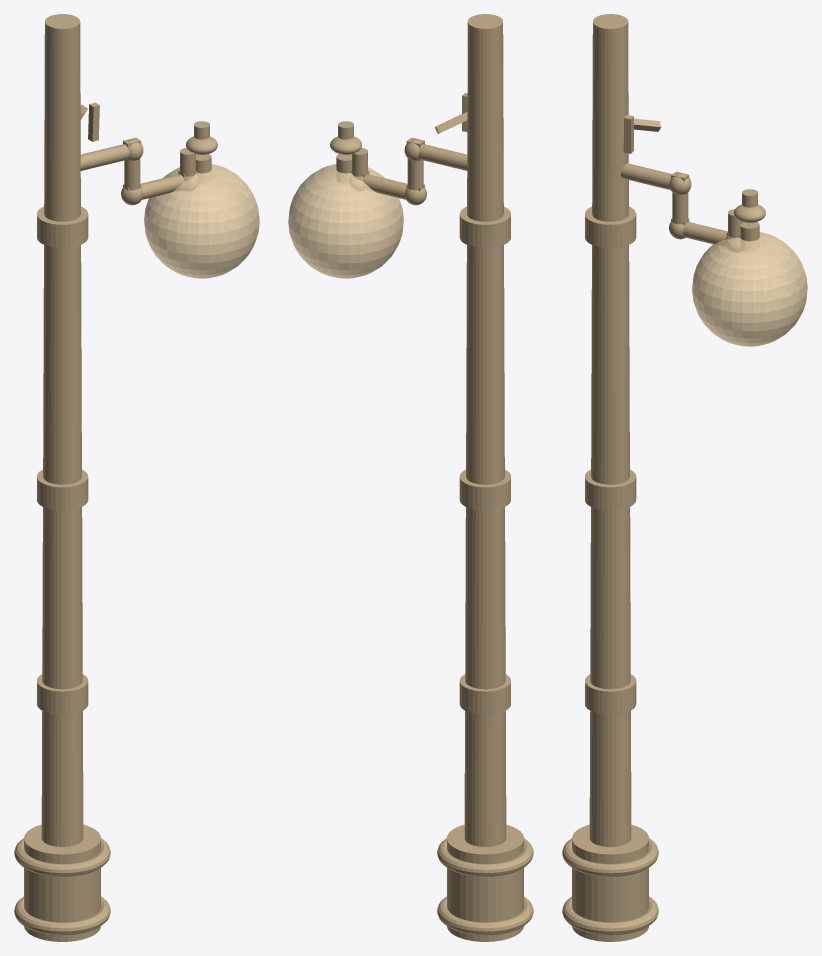
3 views of the same model, side by side, from view 1: azimuth 30°, elevation 25°; view 2: azimuth 150°, elevation 25°; view 3: azimuth 330°, elevation 25° (orthographic).
Parts seen in each view (by area): view 1: MainPole, AmberGlassGlobe, Base, Cylinder.002, Torus.001, Torus, Cylinder.001, Cylinder, Cylinder.003, Cylinder.005; view 2: MainPole, AmberGlassGlobe, Base, Cylinder.002, Torus.001, Torus, Cylinder.001, Cylinder, Cylinder.003, Cylinder.005; view 3: MainPole, AmberGlassGlobe, Base, Cylinder.002, Torus.001, Torus, Cylinder.001, Cylinder, Cylinder.003, Cylinder.005, Cylinder.007.
Part boxes in pixels (<box>): MainPole: <box>41,14,83,846</box>; AmberGlassGlobe: <box>144,164,259,278</box>; Base: <box>24,824,100,941</box>; Cylinder.002: <box>37,206,88,248</box>; Torus.001: <box>14,838,110,876</box>; Torus: <box>14,896,110,935</box>; Cylinder.001: <box>37,469,88,510</box>; Cylinder: <box>37,674,88,714</box>; Cylinder.003: <box>80,144,129,170</box>; Cylinder.005: <box>140,174,184,199</box>; MainPole: <box>464,14,506,846</box>; AmberGlassGlobe: <box>288,164,403,278</box>; Base: <box>447,824,523,941</box>; Cylinder.002: <box>459,206,510,248</box>; Torus.001: <box>437,838,533,876</box>; Torus: <box>437,896,533,935</box>; Cylinder.001: <box>459,469,510,510</box>; Cylinder: <box>459,674,510,714</box>; Cylinder.003: <box>418,144,467,170</box>; Cylinder.005: <box>363,174,407,199</box>; MainPole: <box>589,14,631,846</box>; AmberGlassGlobe: <box>692,232,807,346</box>; Base: <box>572,824,648,941</box>; Cylinder.002: <box>585,206,636,247</box>; Torus.001: <box>562,838,658,876</box>; Torus: <box>562,896,658,935</box>; Cylinder.001: <box>585,469,636,510</box>; Cylinder: <box>585,674,636,714</box>; Cylinder.003: <box>620,163,671,189</box>; Cylinder.005: <box>683,222,727,246</box>; Cylinder.007: <box>740,222,759,251</box>.
Bounding box in the file's own units: 0.83 × 3.1 × 0.36.
